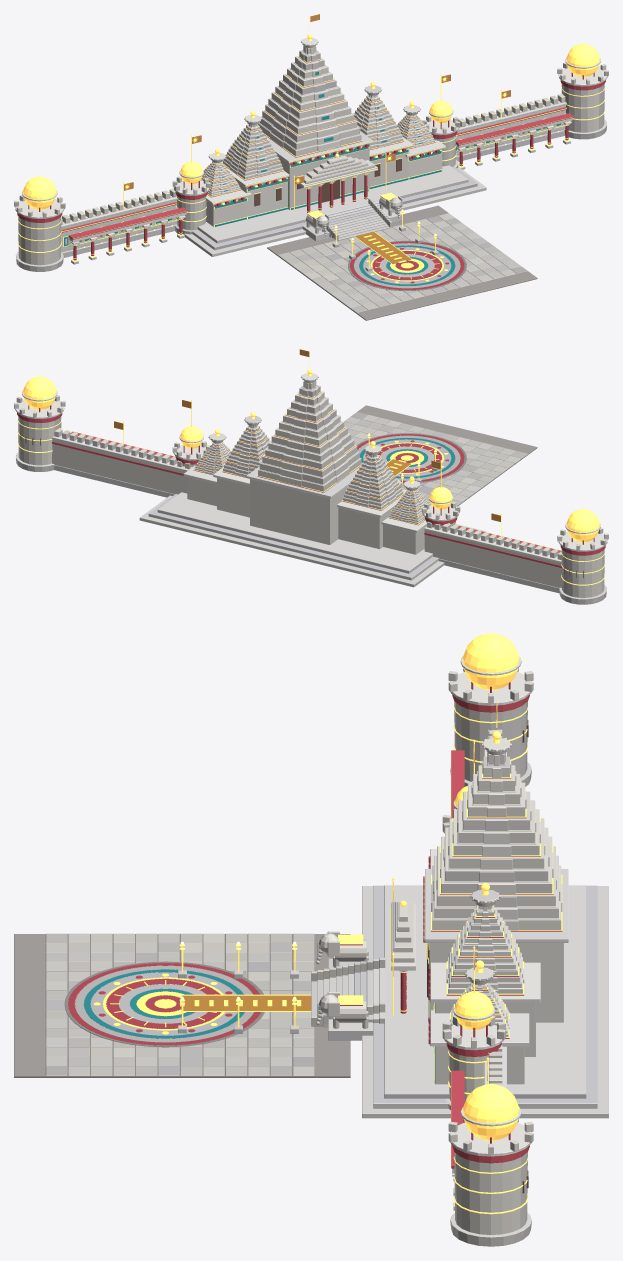
File: gate_slice.glb
The picture shows the model from 3 angles, top to bottom: view 1: azimuth 30°, elevation 25°; view 2: azimuth 150°, elevation 25°; view 3: azimuth 270°, elevation 25°; orthographic projection. The views are drawn at different scales.
Visible parts, largest first — view 1: stone, marble, gold, red, plaster, paving, mortar, paving2, teal, carpet, dark, saffron; view 2: stone, marble, plaster, gold, red, paving, mortar, paving2, teal, saffron; view 3: marble, stone, paving, gold, paving2, mortar, plaster, red, teal, carpet.
Boxes of the visible parts, x1,y1,x2,y2 form: stone: (14,45,608,265); marble: (15,57,607,284); gold: (18,16,604,282); red: (17,57,605,289); plaster: (201,38,434,227); paving: (278,213,520,309); mortar: (61,101,565,320); paving2: (285,216,527,312); teal: (64,71,561,285); carpet: (355,231,410,263); dark: (79,127,545,241); saffron: (124,14,510,190); stone: (14,380,608,597); marble: (15,390,607,604); plaster: (194,373,431,522); gold: (17,351,604,585); red: (17,392,605,567); paving: (344,415,521,502); mortar: (348,405,537,506); paving2: (344,412,527,505); teal: (360,438,455,478); saffron: (114,349,500,521); marble: (90,656,608,1246); stone: (311,668,563,1234); paving: (45,933,314,1075); gold: (93,633,562,1214); paving2: (45,933,314,1075); mortar: (14,737,487,1077); plaster: (327,738,562,1035); red: (68,682,562,1168); teal: (83,785,471,1082); carpet: (182,995,311,1010).
Size of the model in its own units: 103 by 30.02 by 53.
